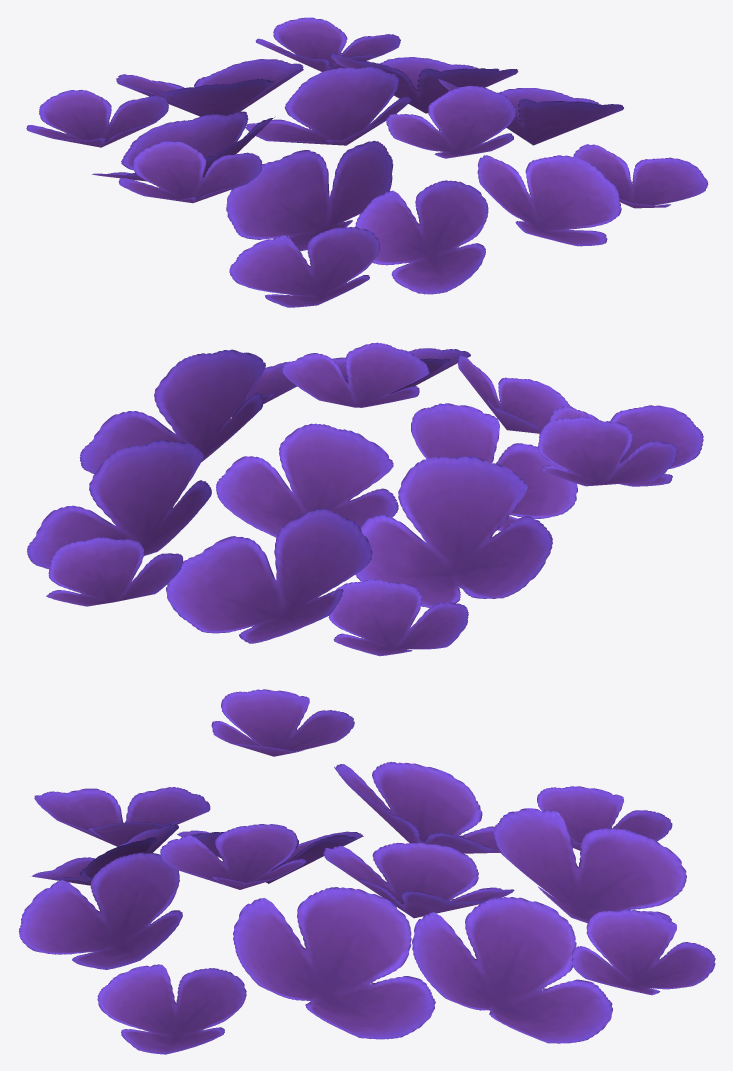
The picture shows the model from 3 angles, top to bottom: view 1: azimuth 30°, elevation 25°; view 2: azimuth 150°, elevation 25°; view 3: azimuth 270°, elevation 25°; orthographic projection. The views are drawn at different scales.
Visible parts, largest first — view 1: Plant_7_Big; view 2: Plant_7_Big; view 3: Plant_7_Big.
Boxes of the visible parts, bbox=[...] form: Plant_7_Big: bbox=[26, 17, 708, 307]; Plant_7_Big: bbox=[27, 342, 703, 656]; Plant_7_Big: bbox=[18, 689, 715, 1054].
Size of the model in its own units: 1.31 by 0.2534 by 1.36.
Materials: 1 (1 with a texture image).
